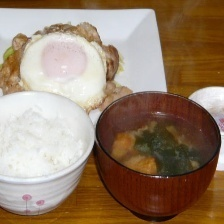rice: (0, 99, 89, 180)
